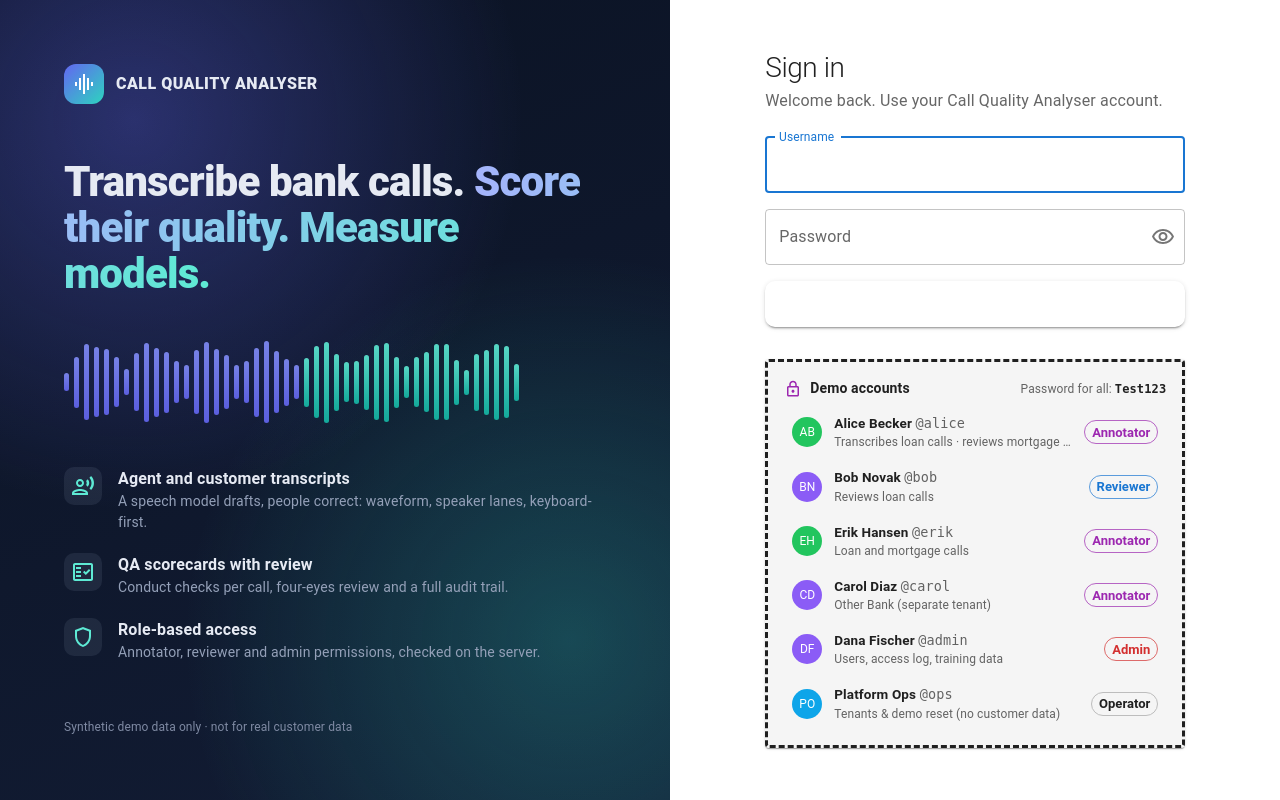
Test: sign-in › rejects wrong credentials without storing anything
Type "alice" into the field labelled "Username" at (975, 165), box 765,137 -> 1185,193
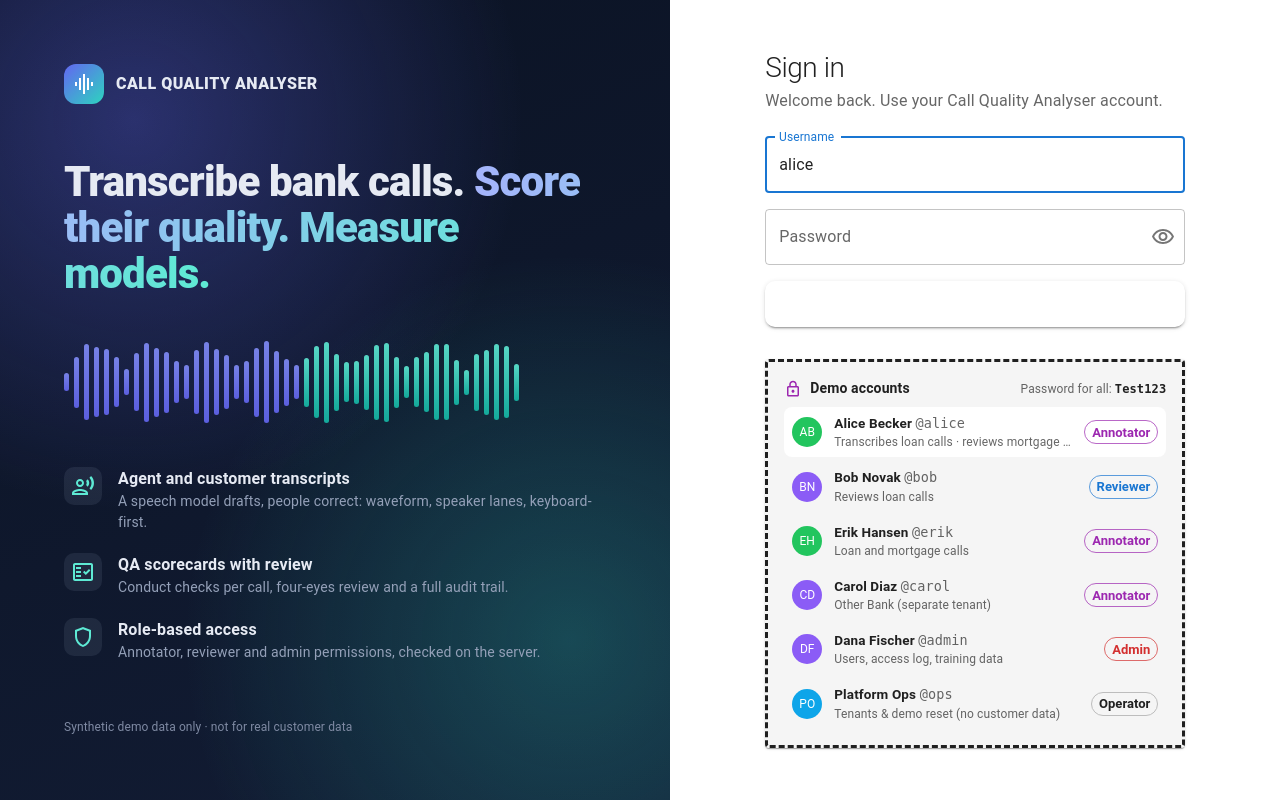
Type "nope" into the password field labelled "Password" at (950, 237), box 765,209 -> 1135,265
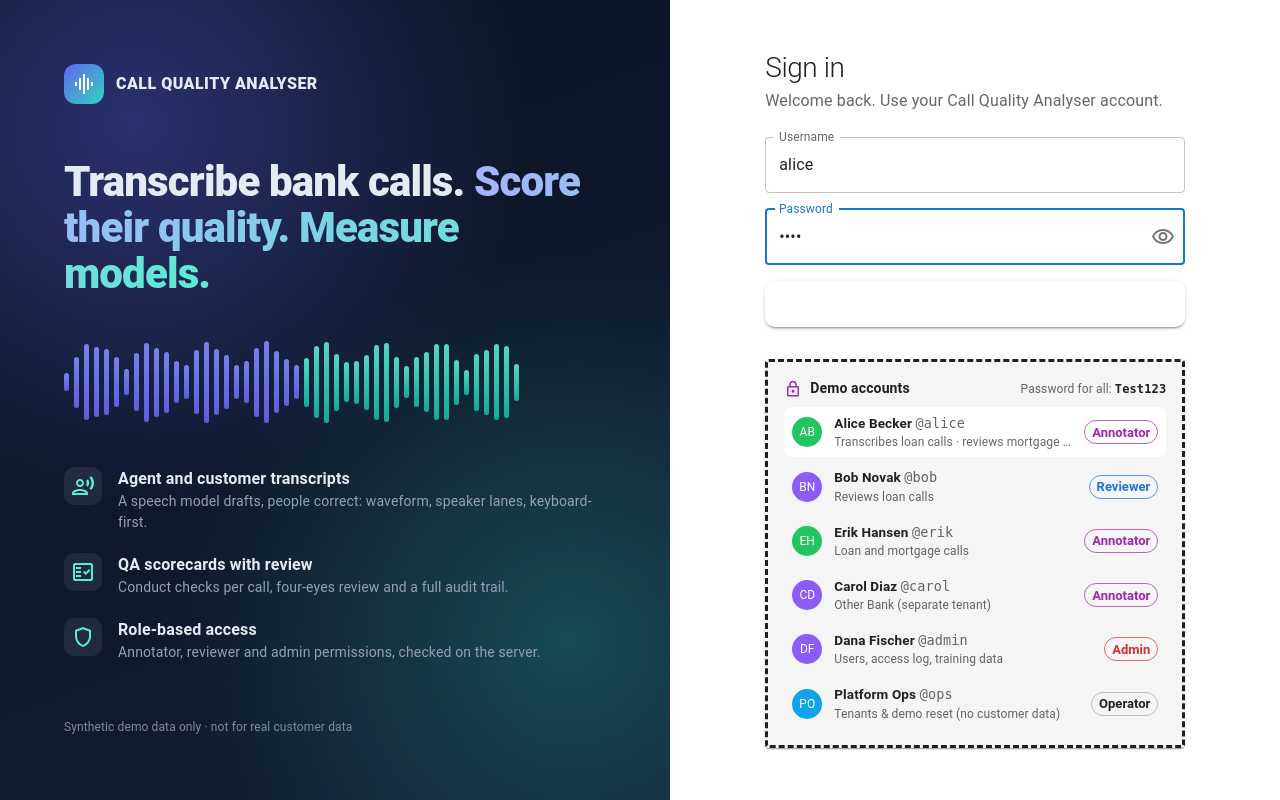
Click the button "Sign in" at (975, 304), box 765,281 -> 1185,327
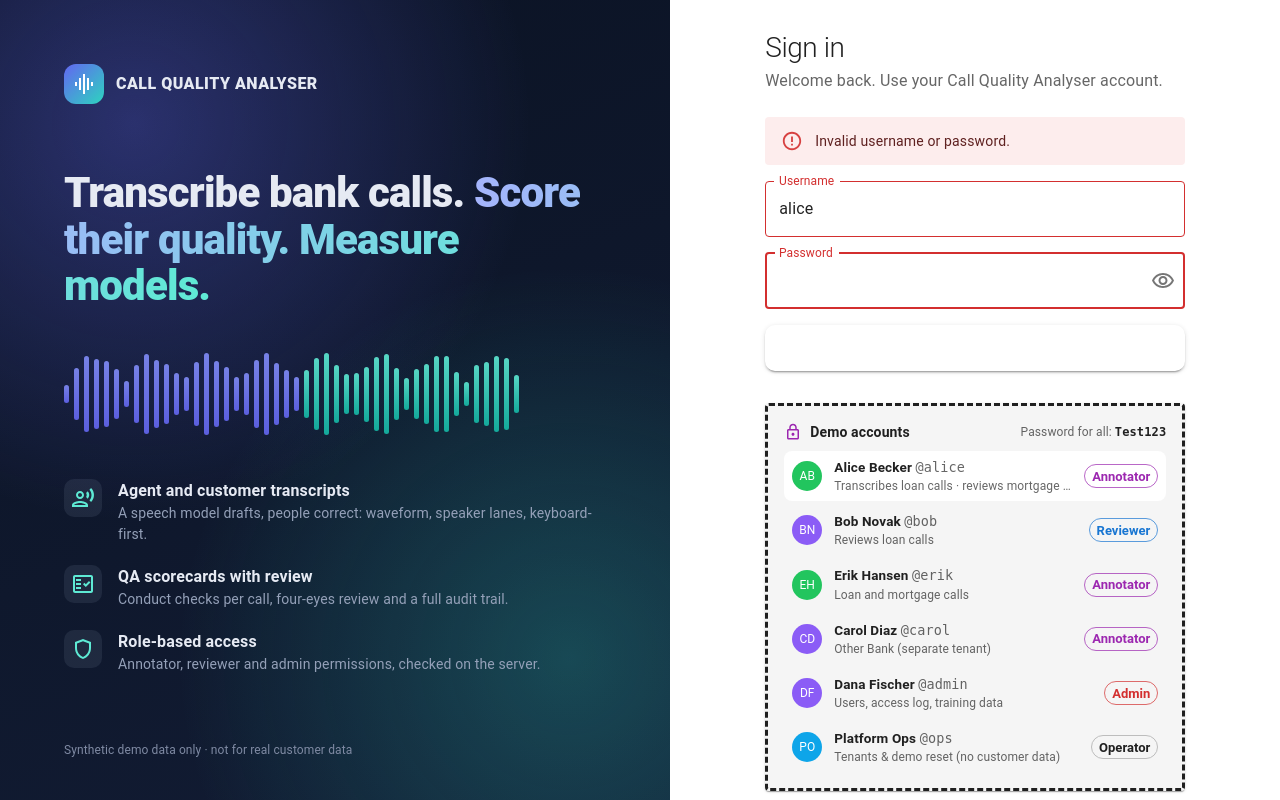
Check: the message reads "Invalid username or password.", box 815,133 -> 1010,149
Check: the password field labelled "Password" is empty, box 765,253 -> 1135,309
